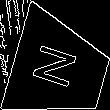N_E: (31, 43, 87, 96)
